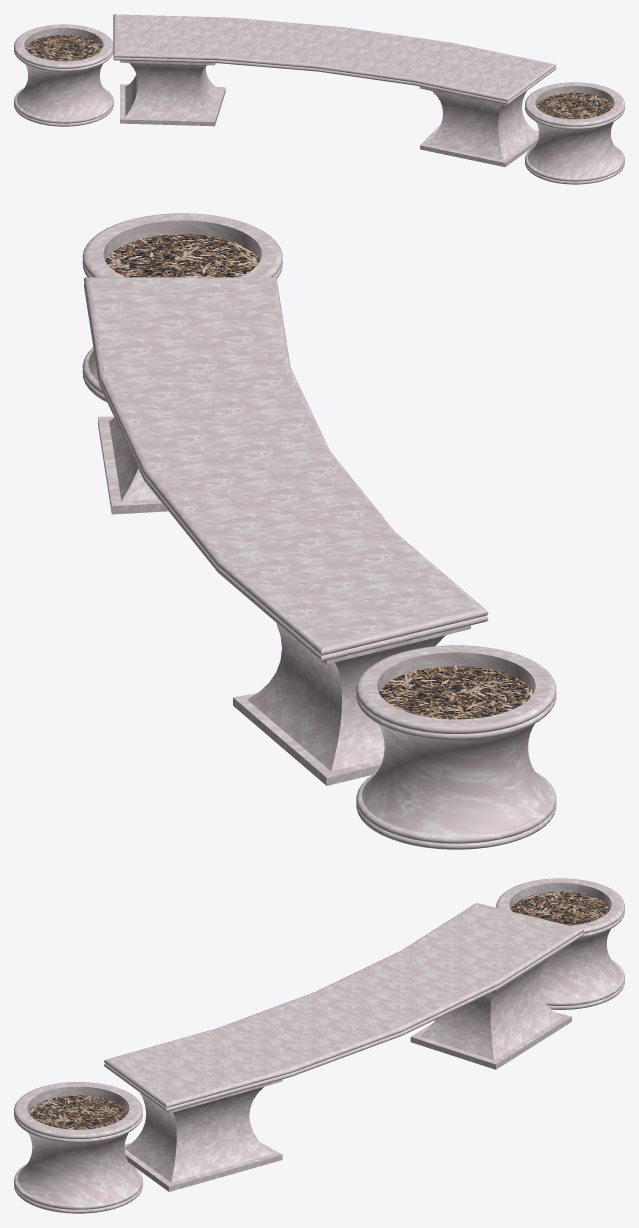
Rendered from BenchPlanterSet.obj.
3 renders of one model, top to bottom at view 1: azimuth 30°, elevation 25°; view 2: azimuth 150°, elevation 25°; view 3: azimuth 270°, elevation 25°, orthographic. The views are drawn at different scales.
Visible parts, largest first — view 1: ConceptHouseAtriamBenchPlanterSet-GRP-80904-JoA1_Marble9, ConceptHouseAtriamBenchPlanterSet-GRP-80905-JoA1_Marble9, ConceptHouseAtriamBenchPlanterSet-GRP-80906-JoA1_Marble9, ConceptHouseAtriamBenchPlanterSet-GRP-80905-suc-groundleave-019, ConceptHouseAtriamBenchPlanterSet-GRP-80906-suc-groundleave-019; view 2: ConceptHouseAtriamBenchPlanterSet-GRP-80904-JoA1_Marble9, ConceptHouseAtriamBenchPlanterSet-GRP-80906-JoA1_Marble9, ConceptHouseAtriamBenchPlanterSet-GRP-80905-JoA1_Marble9, ConceptHouseAtriamBenchPlanterSet-GRP-80906-suc-groundleave-019, ConceptHouseAtriamBenchPlanterSet-GRP-80905-suc-groundleave-019; view 3: ConceptHouseAtriamBenchPlanterSet-GRP-80904-JoA1_Marble9, ConceptHouseAtriamBenchPlanterSet-GRP-80905-JoA1_Marble9, ConceptHouseAtriamBenchPlanterSet-GRP-80906-JoA1_Marble9, ConceptHouseAtriamBenchPlanterSet-GRP-80905-suc-groundleave-019, ConceptHouseAtriamBenchPlanterSet-GRP-80906-suc-groundleave-019.
Boxes of the visible parts, <box> form: ConceptHouseAtriamBenchPlanterSet-GRP-80904-JoA1_Marble9: <box>113,14,556,167</box>; ConceptHouseAtriamBenchPlanterSet-GRP-80905-JoA1_Marble9: <box>525,82,624,184</box>; ConceptHouseAtriamBenchPlanterSet-GRP-80906-JoA1_Marble9: <box>14,24,113,126</box>; ConceptHouseAtriamBenchPlanterSet-GRP-80905-suc-groundleave-019: <box>536,92,613,119</box>; ConceptHouseAtriamBenchPlanterSet-GRP-80906-suc-groundleave-019: <box>25,35,102,61</box>; ConceptHouseAtriamBenchPlanterSet-GRP-80904-JoA1_Marble9: <box>84,277,488,785</box>; ConceptHouseAtriamBenchPlanterSet-GRP-80906-JoA1_Marble9: <box>356,645,556,849</box>; ConceptHouseAtriamBenchPlanterSet-GRP-80905-JoA1_Marble9: <box>82,213,282,402</box>; ConceptHouseAtriamBenchPlanterSet-GRP-80906-suc-groundleave-019: <box>379,666,533,719</box>; ConceptHouseAtriamBenchPlanterSet-GRP-80905-suc-groundleave-019: <box>105,234,260,277</box>; ConceptHouseAtriamBenchPlanterSet-GRP-80904-JoA1_Marble9: <box>104,903,583,1191</box>; ConceptHouseAtriamBenchPlanterSet-GRP-80905-JoA1_Marble9: <box>14,1082,142,1213</box>; ConceptHouseAtriamBenchPlanterSet-GRP-80906-JoA1_Marble9: <box>496,878,624,1009</box>; ConceptHouseAtriamBenchPlanterSet-GRP-80905-suc-groundleave-019: <box>28,1095,128,1129</box>; ConceptHouseAtriamBenchPlanterSet-GRP-80906-suc-groundleave-019: <box>511,891,610,925</box>.
Bounding box in the file's own units: 3.19 × 0.5334 × 3.19.
3 materials, 2 textured.
